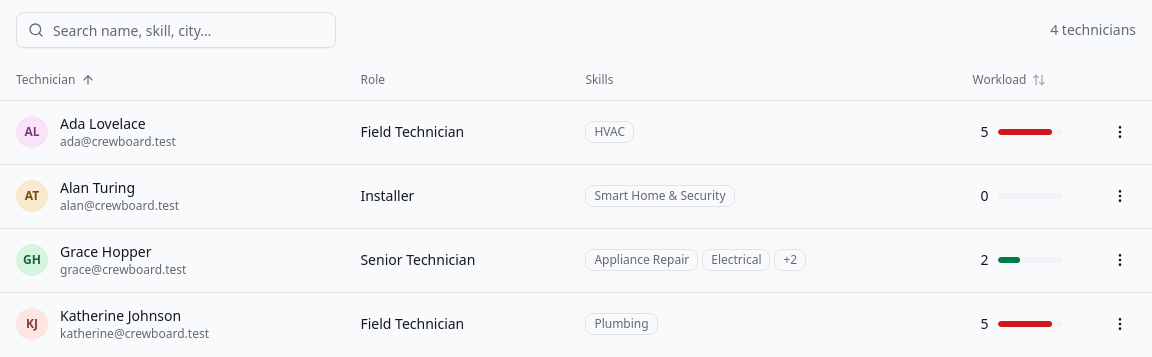
Test: TechniciansTable › shows a no-results state that clears the search
Type " zzz" into the search field named "Search technicians".
click(176, 30); type(" zzz")  # box x1=16 y1=12 x2=336 y2=48
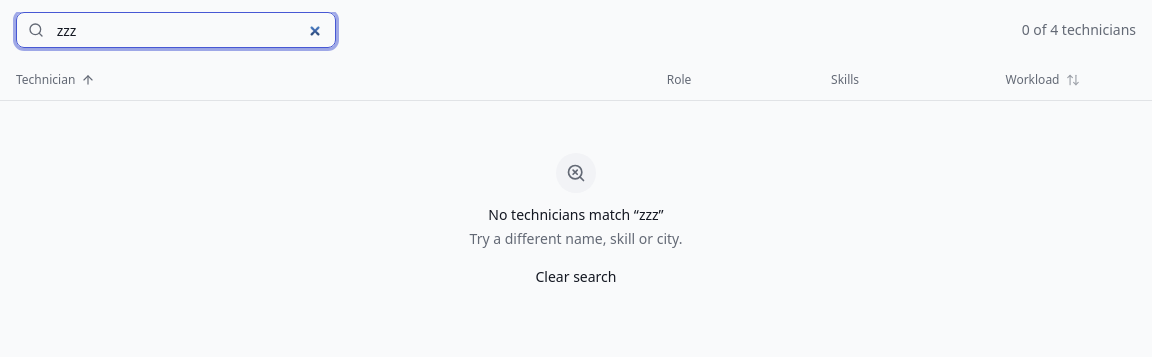
Now the text "No technicians match “zzz”" is shown, box x1=488 y1=204 x2=664 y2=224
Now the text "technicians?" reads "0 of 4 technicians", box x1=1022 y1=20 x2=1136 y2=39
Click the button "Clear search".
click(576, 276)  # box x1=524 y1=260 x2=628 y2=292
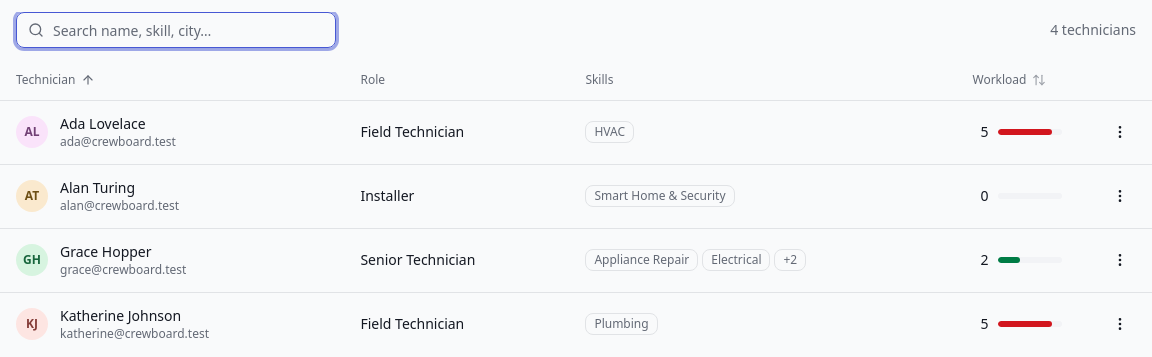
Expected: the text "technicians?" reads "4 technicians", x1=1050 y1=20 x2=1136 y2=39
Now the number of links is 4, box x1=60 y1=114 x2=146 y2=134; x1=60 y1=178 x2=135 y2=198; x1=60 y1=242 x2=152 y2=262; x1=60 y1=306 x2=181 y2=326
Now the search field named "Search technicians" is empty, box x1=16 y1=12 x2=336 y2=48
